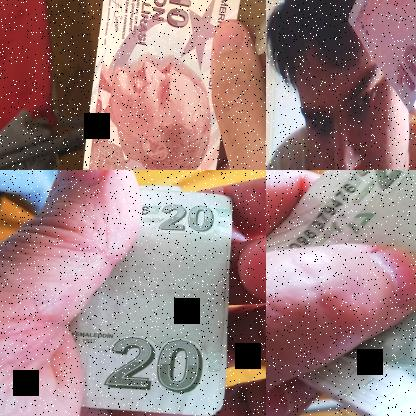5 TL: (79, 0, 265, 169)
